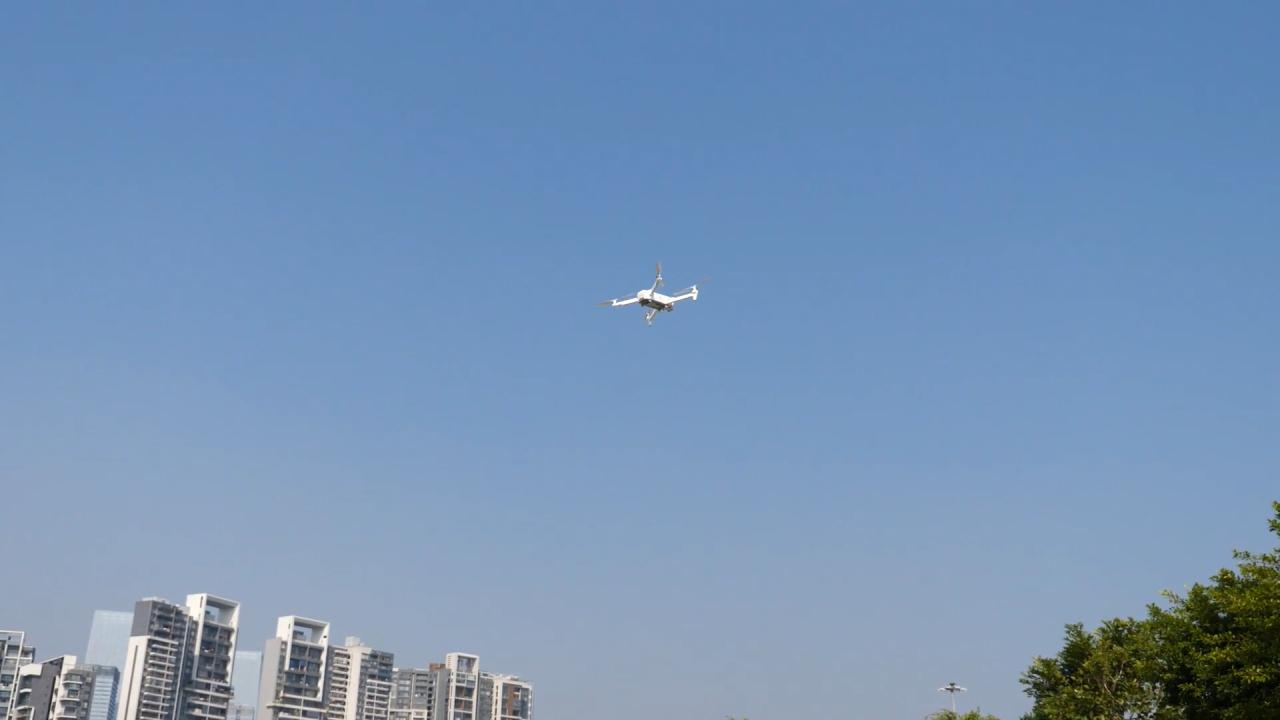Drone: (590, 256, 720, 339)
